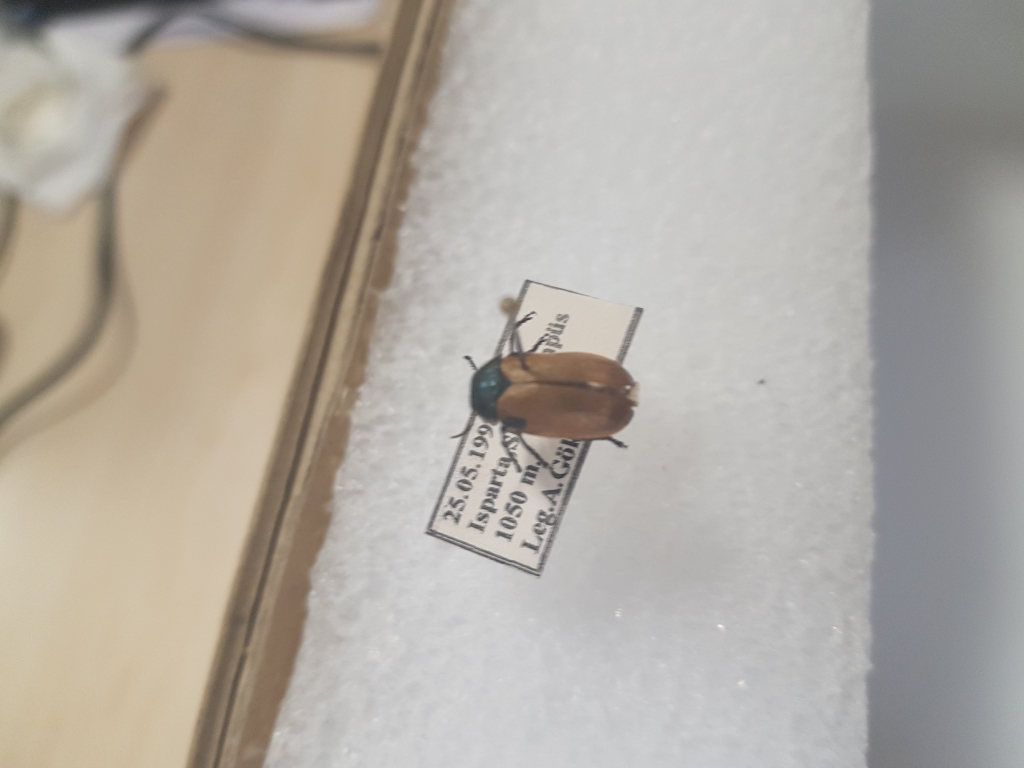Labidostomis_asiatica: (446, 305, 643, 478)
